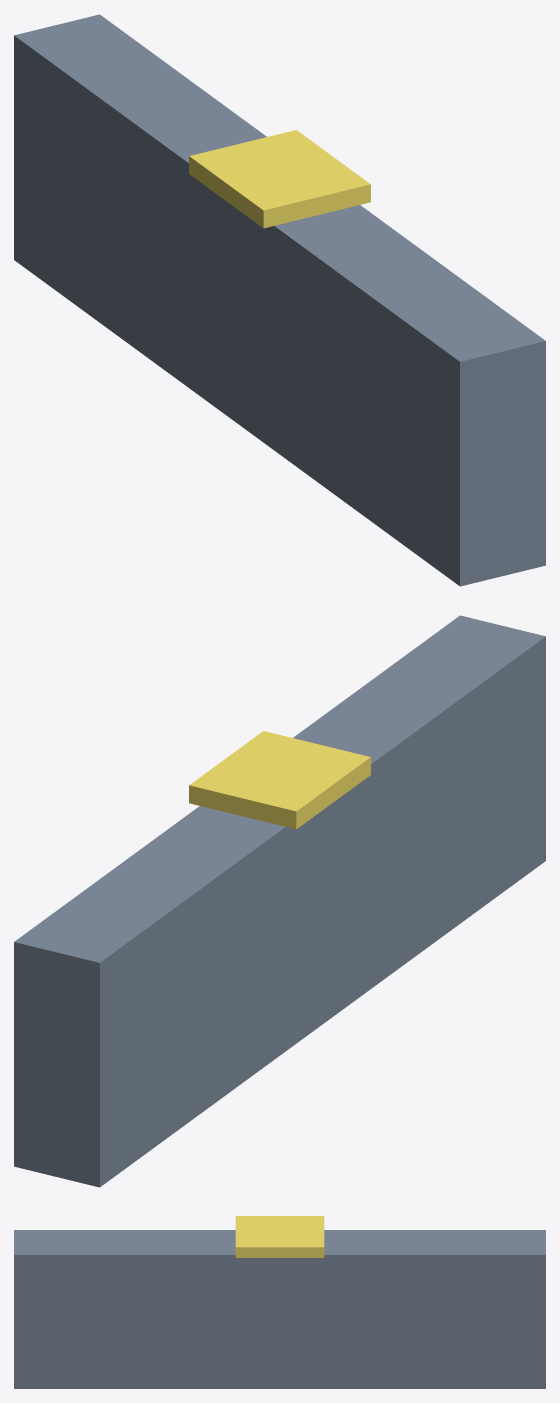
Rendered from is800_steel_beam_bending_web_crippling.glb.
3 views of the same model, one above another, from view 1: azimuth 30°, elevation 25°; view 2: azimuth 150°, elevation 25°; view 3: azimuth 270°, elevation 25° (orthographic). The views are drawn at different scales.
Visible parts, largest first — view 1: RolledSteelJoistISMBBeam, ConcentratedBearingFlangePlate; view 2: RolledSteelJoistISMBBeam, ConcentratedBearingFlangePlate; view 3: RolledSteelJoistISMBBeam, ConcentratedBearingFlangePlate.
Boxes of the visible parts, <box> form: RolledSteelJoistISMBBeam: <box>14,14,545,586</box>; ConcentratedBearingFlangePlate: <box>189,130,370,228</box>; RolledSteelJoistISMBBeam: <box>14,615,545,1187</box>; ConcentratedBearingFlangePlate: <box>189,731,370,829</box>; RolledSteelJoistISMBBeam: <box>14,1230,545,1388</box>; ConcentratedBearingFlangePlate: <box>235,1216,324,1257</box>.
Size of the model in its own units: 0.25 by 0.54 by 1.8.
